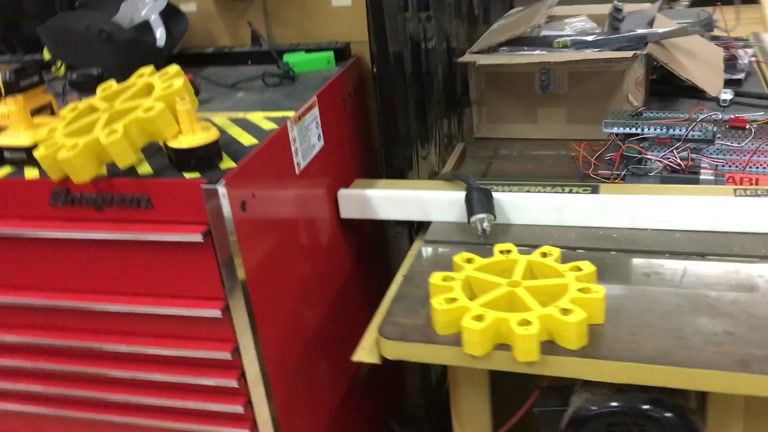gear: (426, 242, 607, 364), (30, 62, 198, 185)
